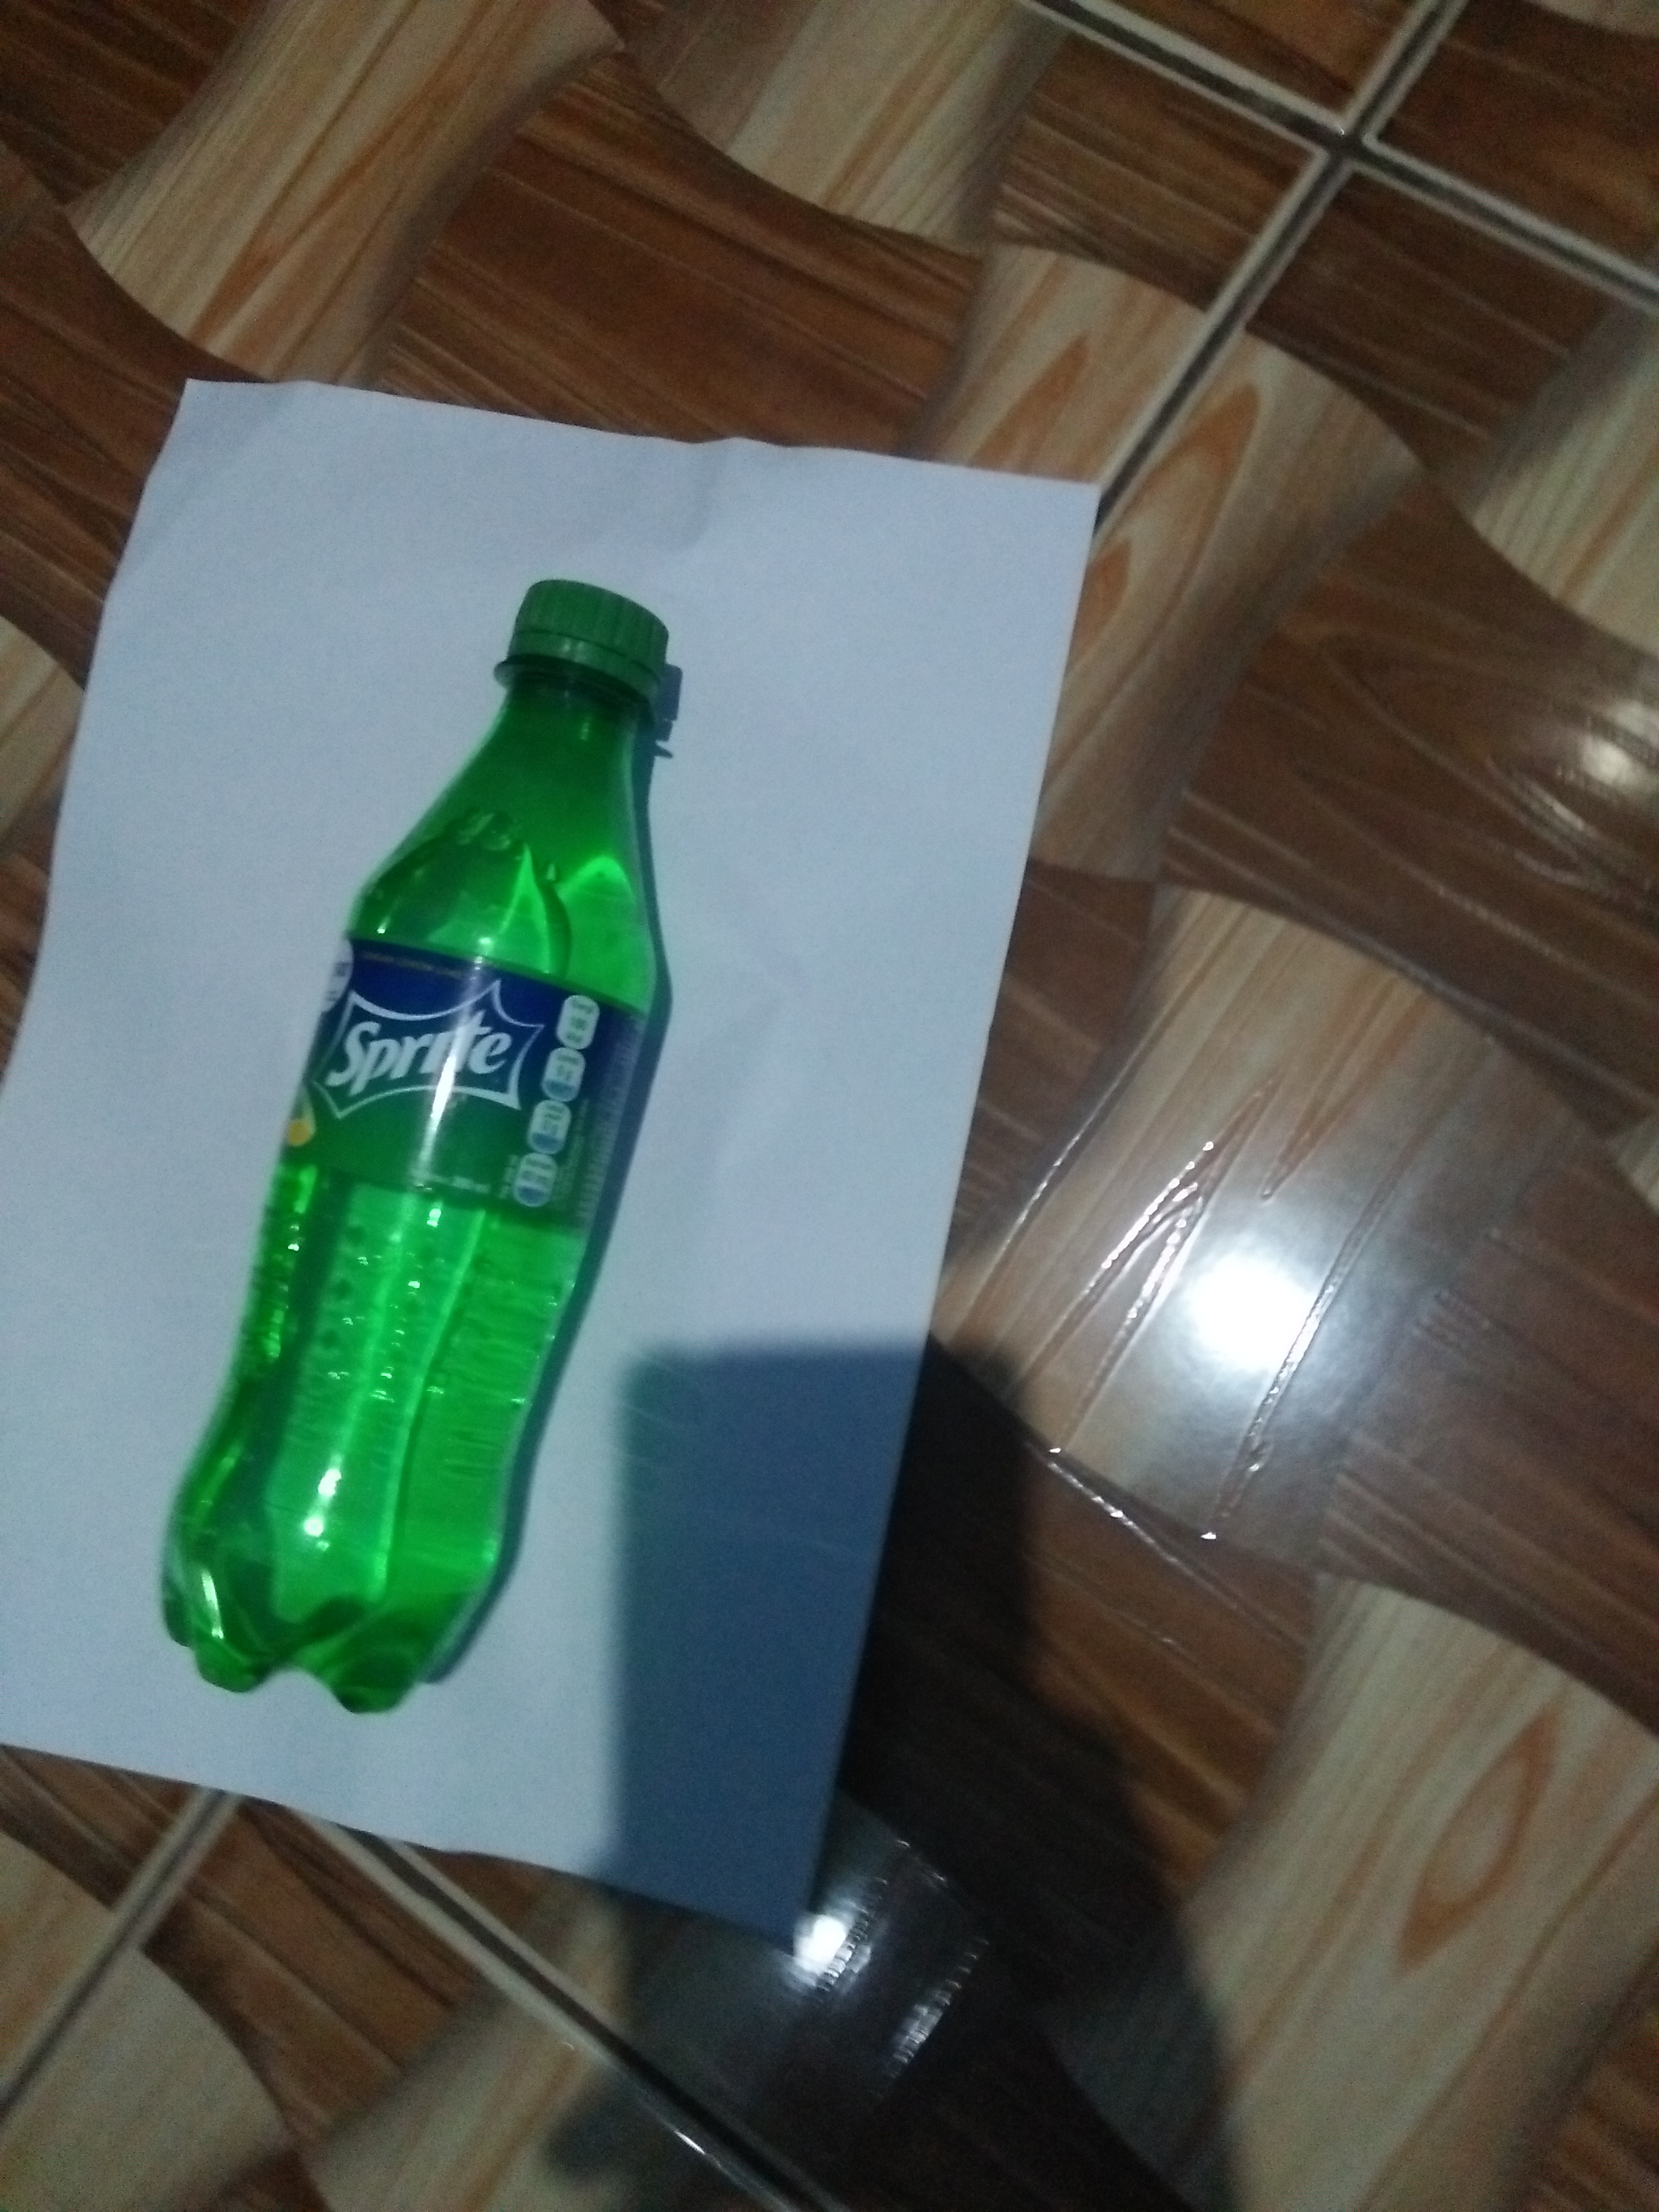Sprite: (143, 557, 711, 1735)
